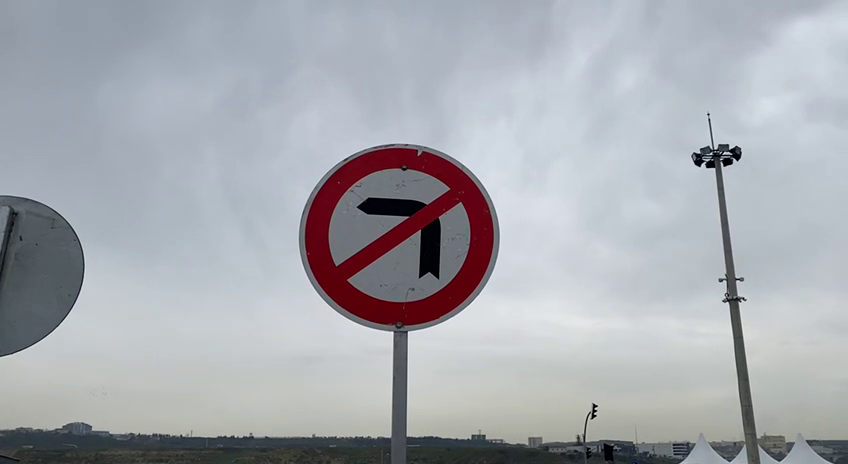noTurnLeft: (295, 140, 503, 334)
